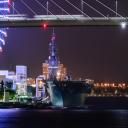Portanaves: (42, 29, 96, 111)
